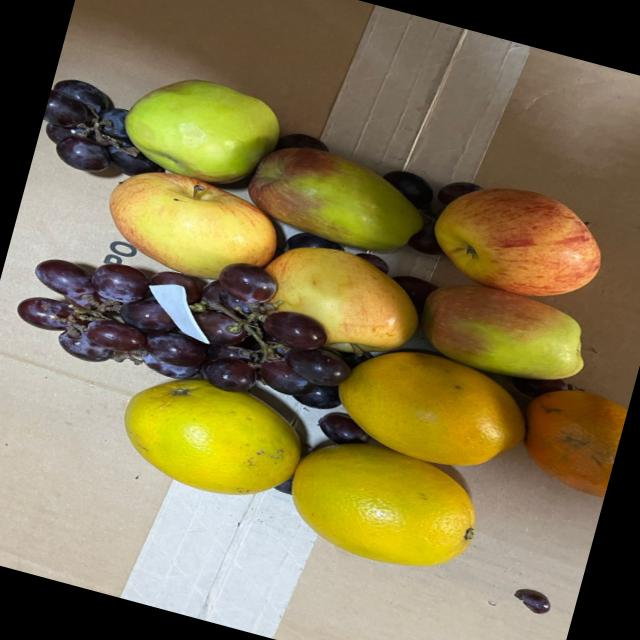hoja: (141, 280, 216, 340)
